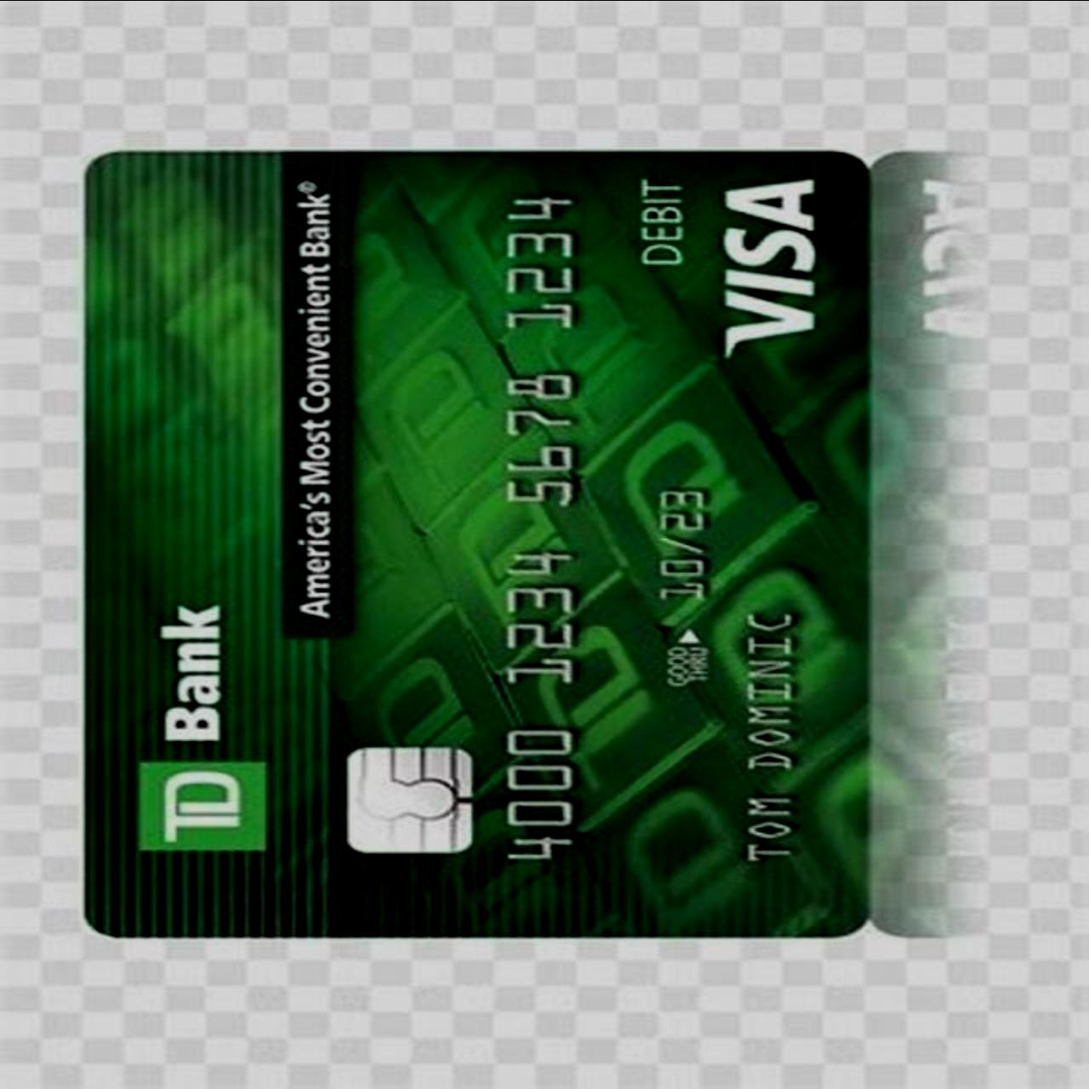credit_card: (85, 140, 871, 939)
